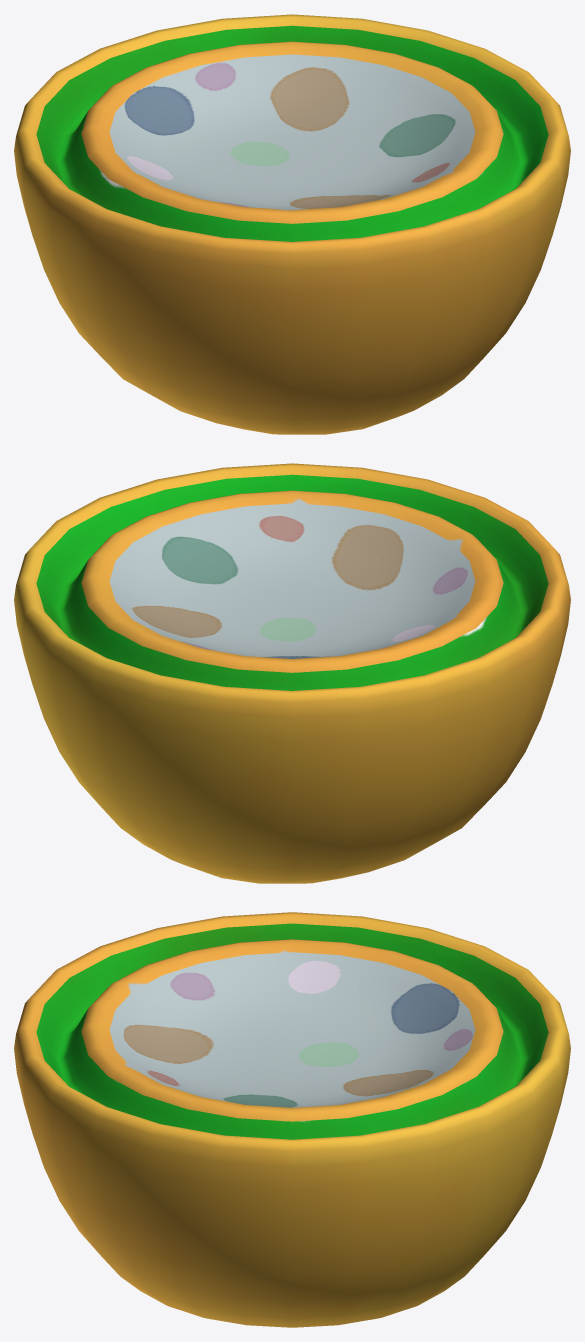
Rendered from Lysosome.fbx.
The picture shows the model from 3 angles, top to bottom: view 1: azimuth 30°, elevation 25°; view 2: azimuth 150°, elevation 25°; view 3: azimuth 270°, elevation 25°; orthographic projection.
Parts seen in each view (by area): view 1: pSphere50; view 2: pSphere50; view 3: pSphere50.
Part boxes in pixels (x1,y1,x2,y2): pSphere50: (14, 14, 570, 434); pSphere50: (14, 463, 570, 883); pSphere50: (14, 912, 570, 1327).
Bounding box in the file's own units: 1.63 × 0.8538 × 1.62.
Materials: 1 (1 with a texture image).
